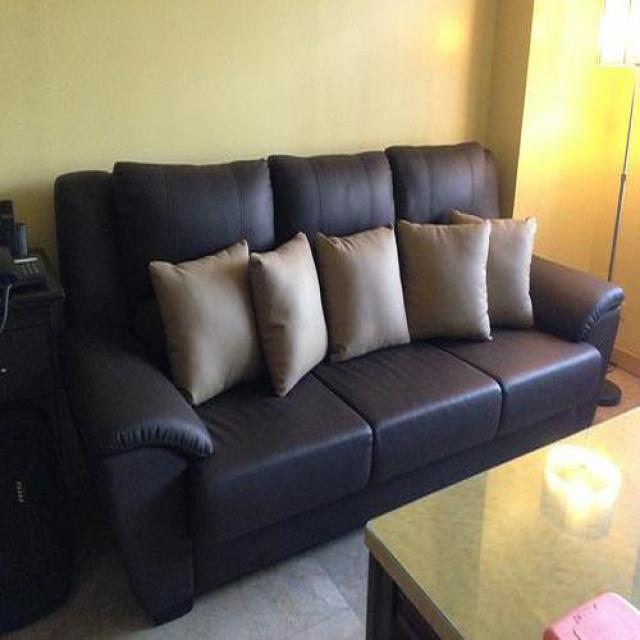sofa: (54, 142, 626, 626)
